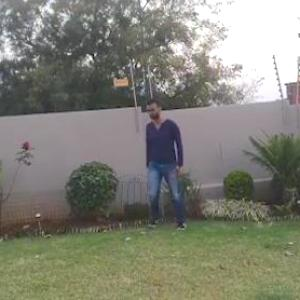follow: (144, 98, 188, 233)
